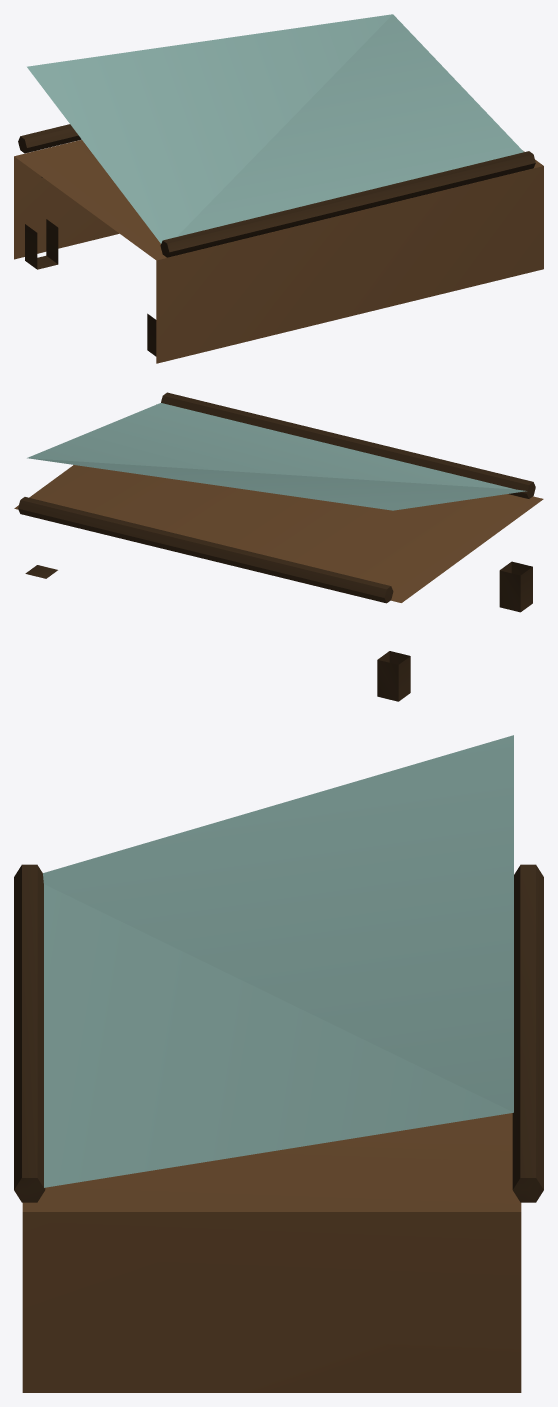
File: cold_store_cold_frame.glb
3 views of the same model, one above another, from view 1: azimuth 30°, elevation 25°; view 2: azimuth 150°, elevation 25°; view 3: azimuth 270°, elevation 25° (orthographic). The views are drawn at different scales.
Visible parts, largest first — view 1: ColdStoreColdFrame_Mesh; view 2: ColdStoreColdFrame_Mesh; view 3: ColdStoreColdFrame_Mesh.
Part boxes in pixels (x1=…): ColdStoreColdFrame_Mesh: x1=14, y1=14, x2=543, y2=363; ColdStoreColdFrame_Mesh: x1=14, y1=392, x2=543, y2=701; ColdStoreColdFrame_Mesh: x1=14, y1=735, x2=543, y2=1392.
Bounding box in the file's own units: 1.1 × 0.52 × 0.744.
